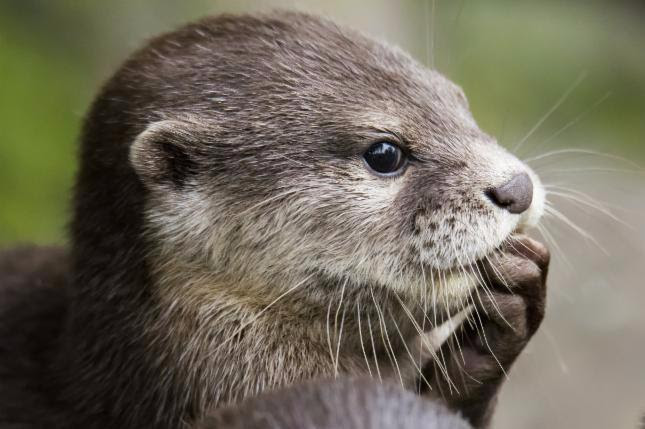otter: (48, 6, 593, 429)
